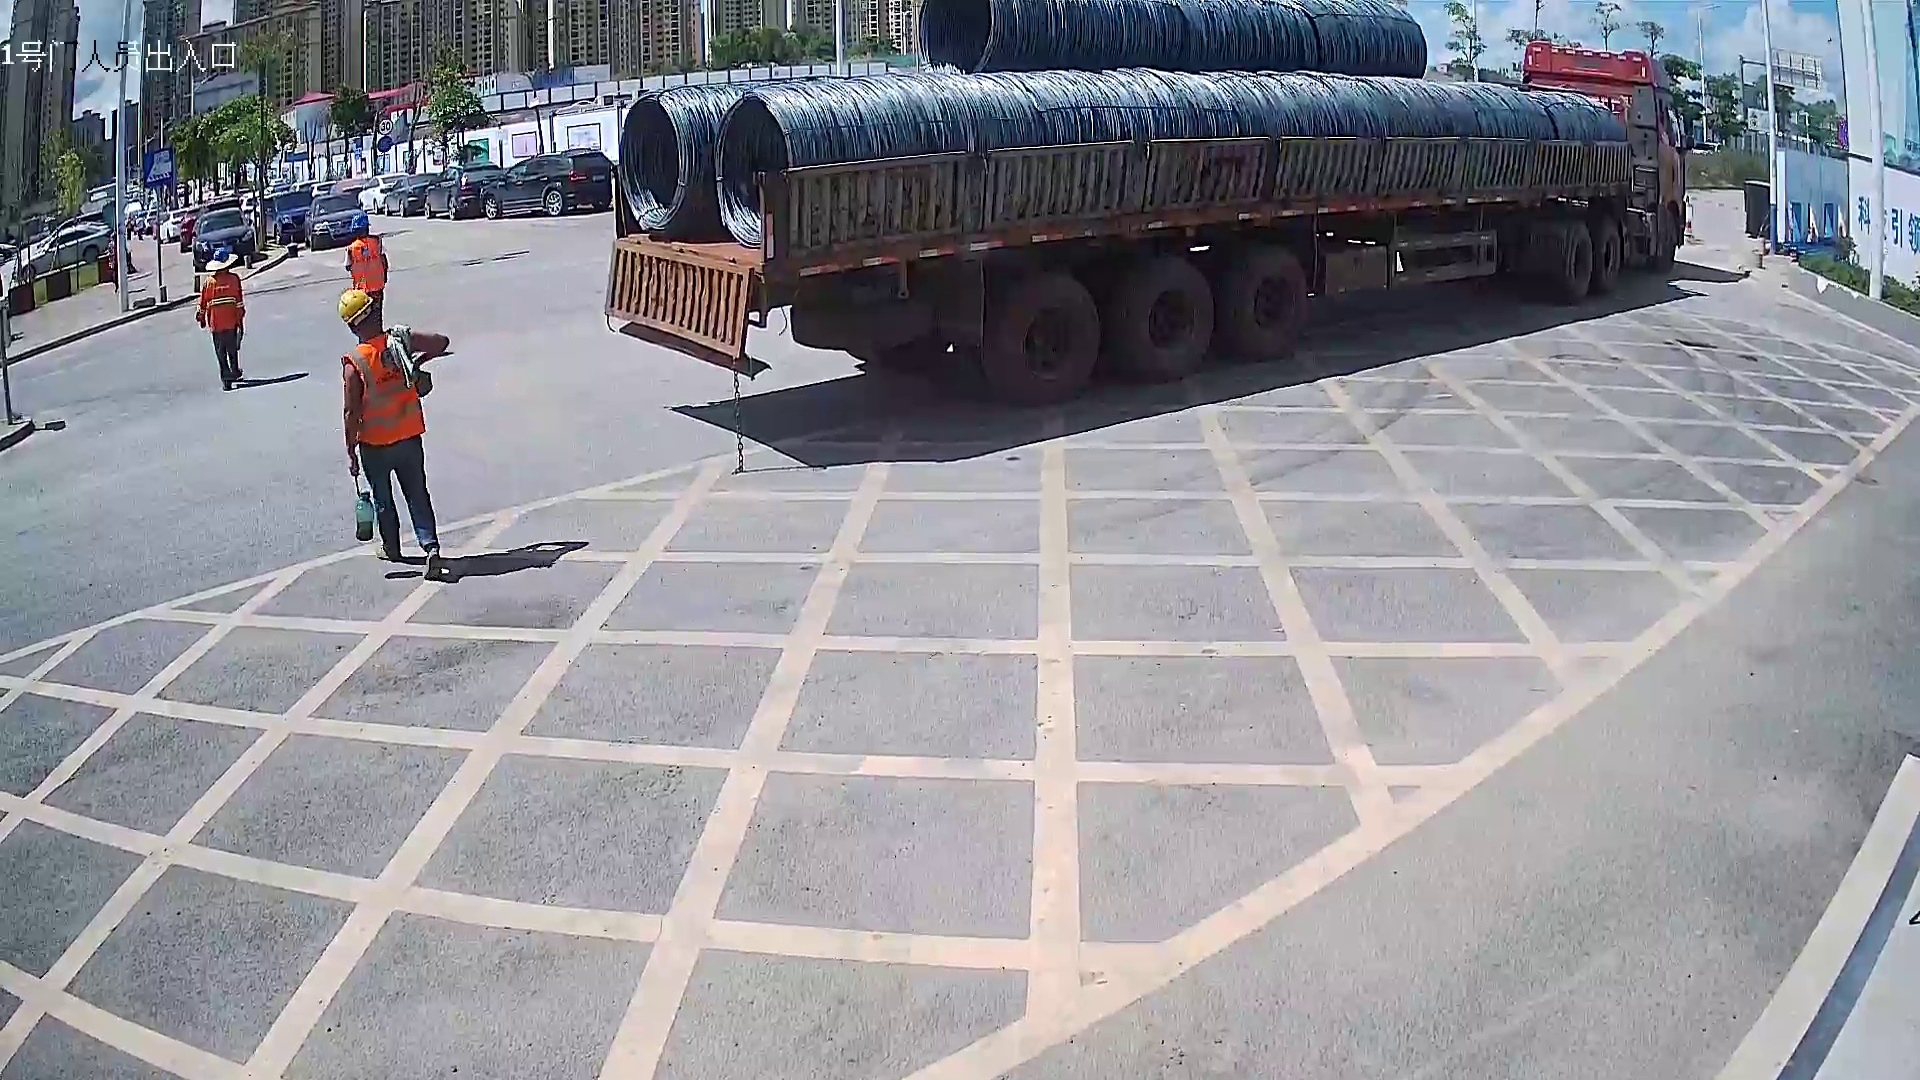person: (337, 287, 452, 581), (193, 246, 247, 393), (342, 210, 390, 339)
reflective_vest: (341, 330, 427, 446), (345, 236, 386, 292), (204, 271, 236, 331)
safety_helmet: (337, 287, 382, 340), (349, 210, 372, 238), (212, 246, 231, 273)
